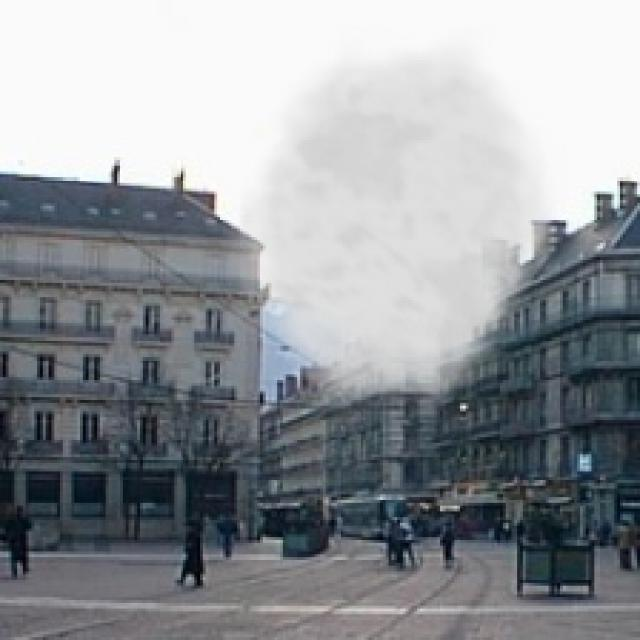Smoke: (220, 26, 566, 417)
